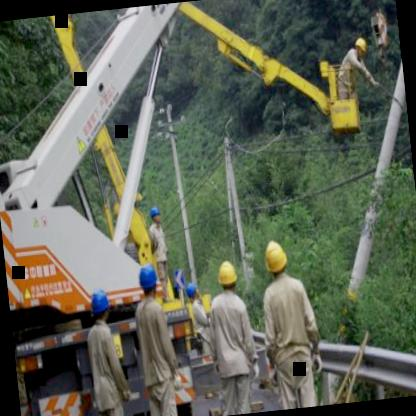helmet: (260, 236, 290, 280), (85, 284, 115, 326), (213, 258, 241, 298), (136, 262, 161, 300), (182, 278, 204, 303), (147, 200, 163, 225), (354, 34, 368, 58)
